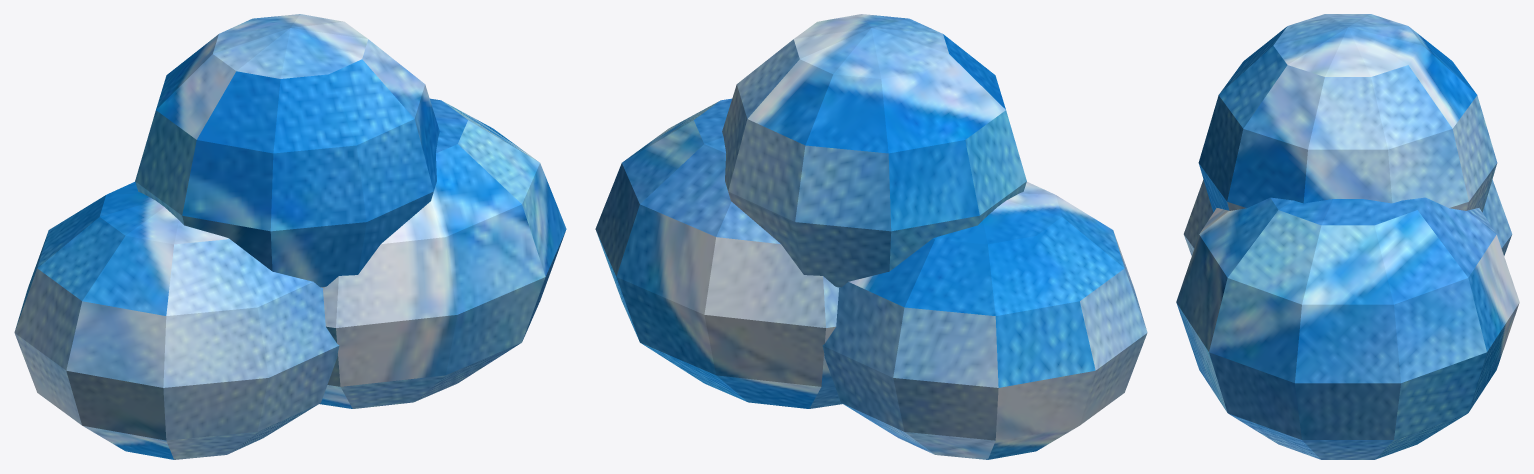
The model's file is rebote_cristal.glb.
The picture shows the model from 3 angles, left to right: view 1: azimuth 30°, elevation 25°; view 2: azimuth 150°, elevation 25°; view 3: azimuth 270°, elevation 25°; orthographic projection. The views are drawn at different scales.
Visible parts, largest first — view 1: rebote_cristal; view 2: rebote_cristal; view 3: rebote_cristal.
Part boxes in pixels (bbox=[...]): rebote_cristal: bbox=[14, 14, 566, 459]; rebote_cristal: bbox=[595, 14, 1147, 459]; rebote_cristal: bbox=[1176, 14, 1519, 459].
Size of the model in its own units: 1 by 0.7412 by 0.6088.
Materials: 1 (1 with a texture image).
